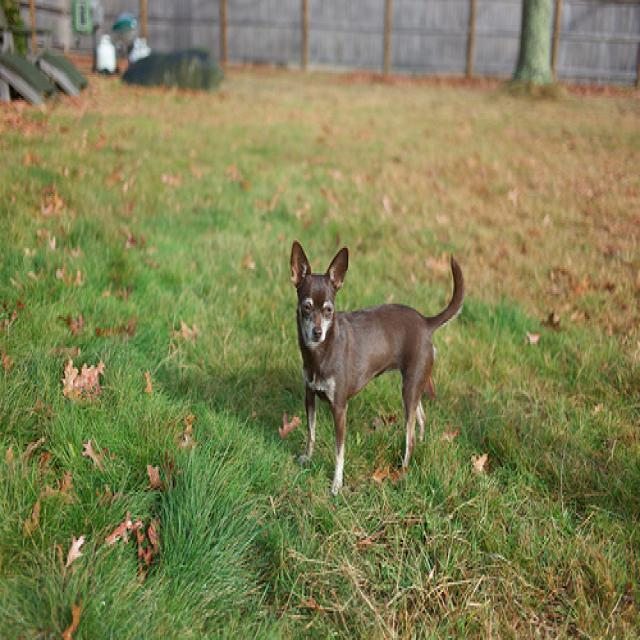dog-chihuahua: (284, 229, 468, 504)
